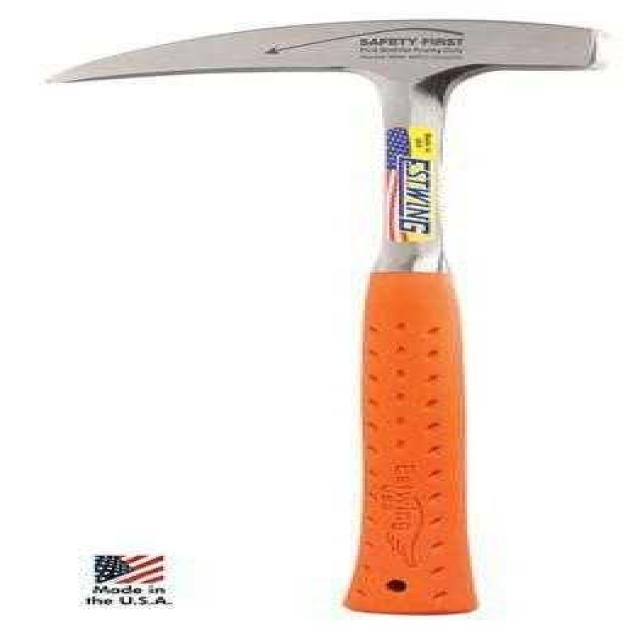hammer: (43, 21, 596, 613)
